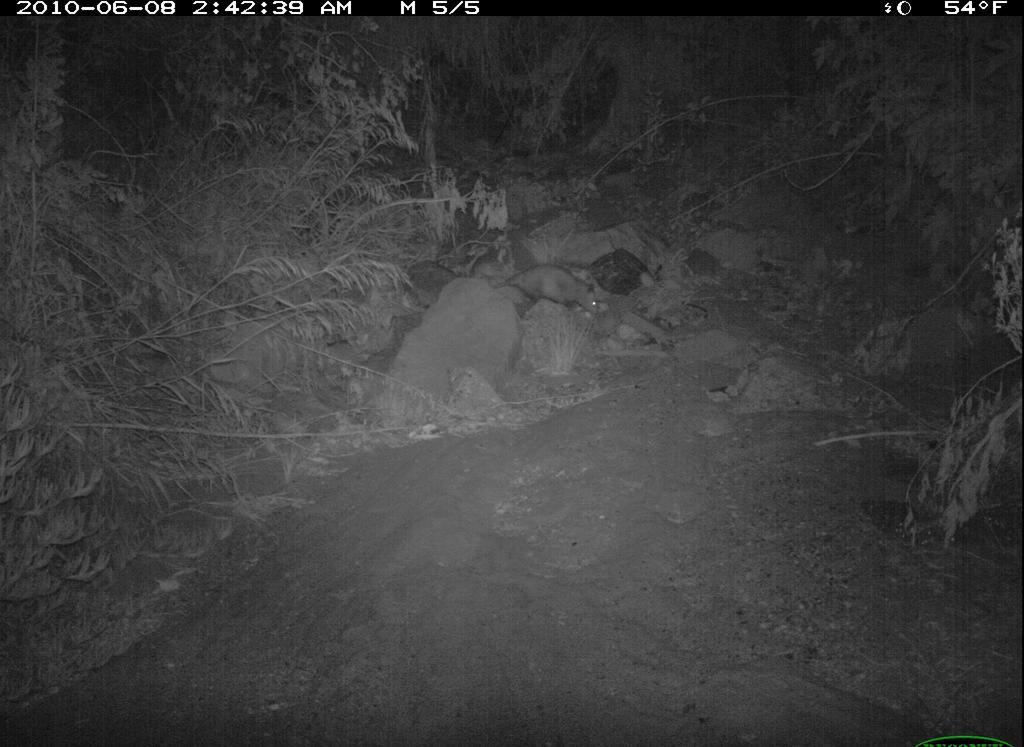opossum: (494, 259, 603, 321)
